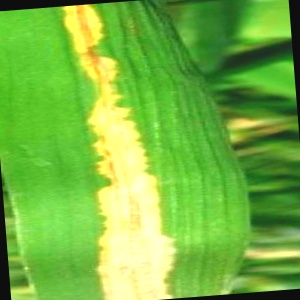Leaf_Blast: (19, 3, 233, 300)
